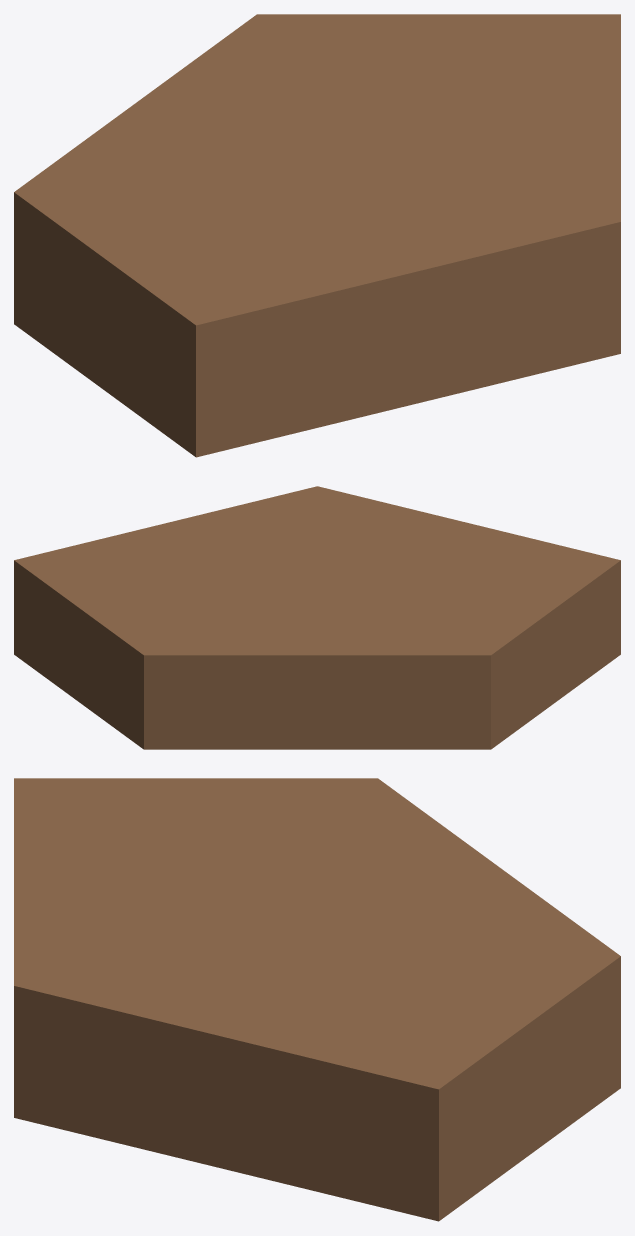
The model's file is _10wall1.glb.
3 renders of one model, top to bottom at view 1: azimuth 30°, elevation 25°; view 2: azimuth 150°, elevation 25°; view 3: azimuth 270°, elevation 25°, orthographic. The views are drawn at different scales.
Visible parts, largest first — view 1: Cliff4; view 2: Cliff4; view 3: Cliff4.
Boxes of the visible parts, x1,y1,x2,y2 form: Cliff4: (14, 14, 620, 457); Cliff4: (14, 486, 620, 749); Cliff4: (14, 778, 620, 1221).
Size of the model in its own units: 1.52 by 0.3 by 1.25.
1 material, 1 textured.
